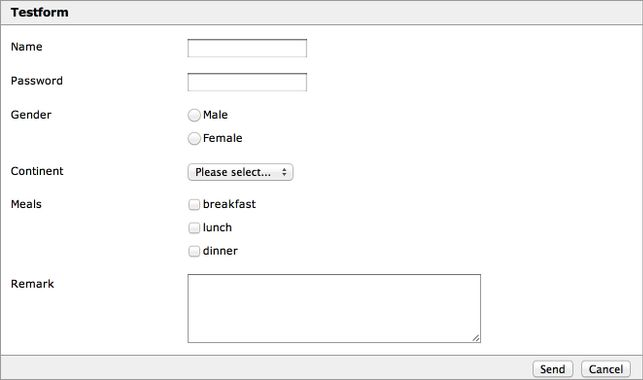_form_: (5, 1, 486, 379), (388, 309, 643, 380)
button: (580, 360, 632, 378), (533, 361, 575, 378)
checkbox: (187, 221, 201, 234), (187, 244, 201, 257), (187, 198, 202, 210)
checkbox_with_label: (183, 196, 257, 211), (185, 243, 238, 259), (185, 219, 231, 235)
field: (185, 272, 483, 344), (185, 71, 309, 93), (186, 38, 307, 59), (187, 162, 294, 182)
field_with_label: (8, 270, 481, 345), (10, 69, 310, 95), (10, 36, 308, 61), (10, 160, 297, 184)
radio: (188, 130, 201, 146), (188, 108, 201, 123)
radio_with_label: (186, 129, 242, 147), (185, 105, 228, 125)
